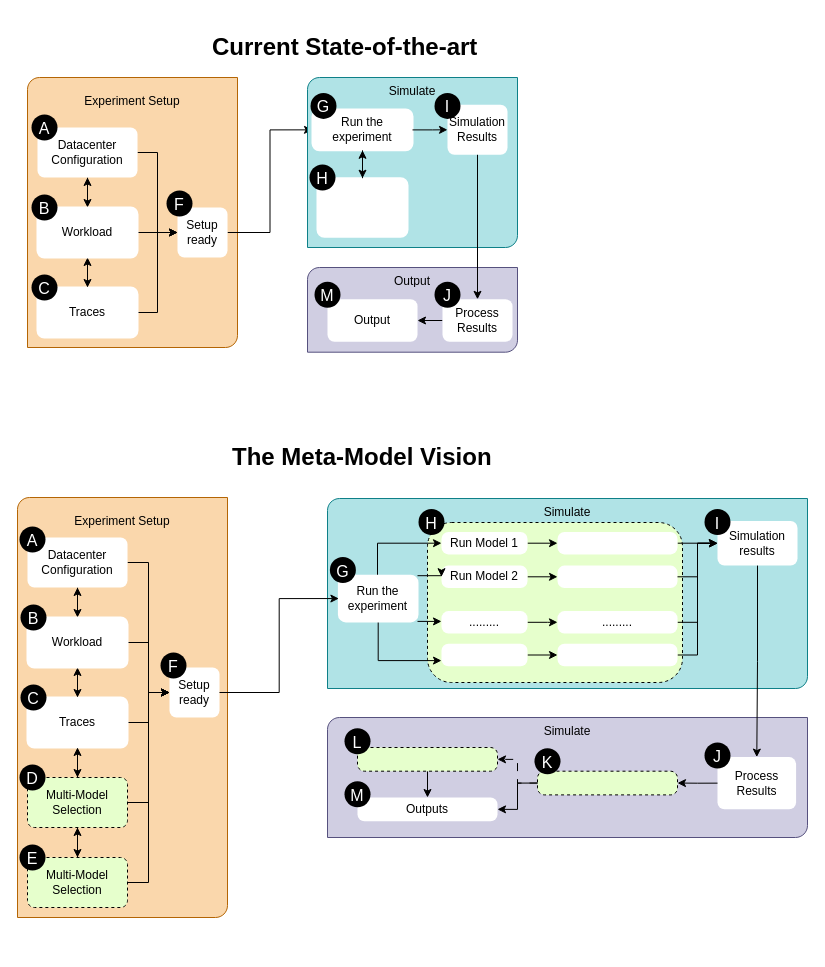
Image size: 825x967. Some labels were removed from this diagram. Here are the shapes that lost their labels. From the top down, the box of each, then its label:
(316, 177, 408, 237): Use a simulation model
(557, 532, 677, 554): Simulation 1 ready
(557, 565, 677, 588): Simulation 2 ready
(441, 643, 527, 666): Run Model x
(557, 643, 677, 666): Simulation x ready
(356, 746, 498, 771): Meta-Model
(536, 770, 678, 795): Multi-Model
